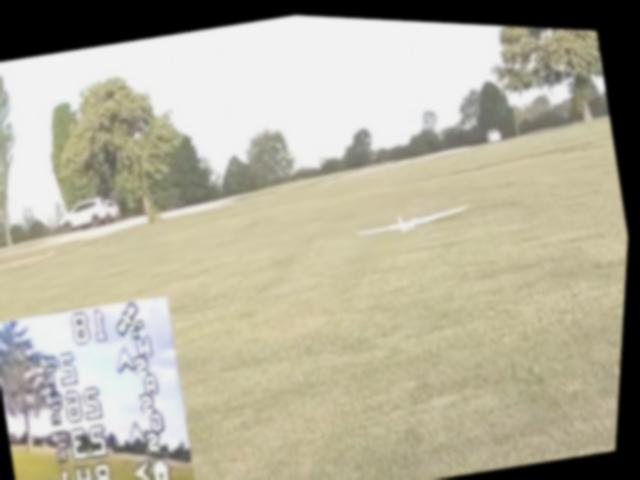iha: (353, 191, 471, 241)
